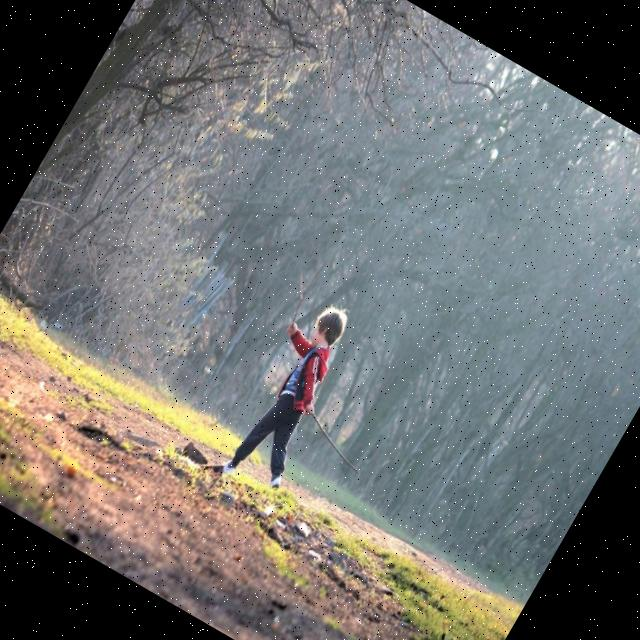Person: (208, 288, 370, 497)
